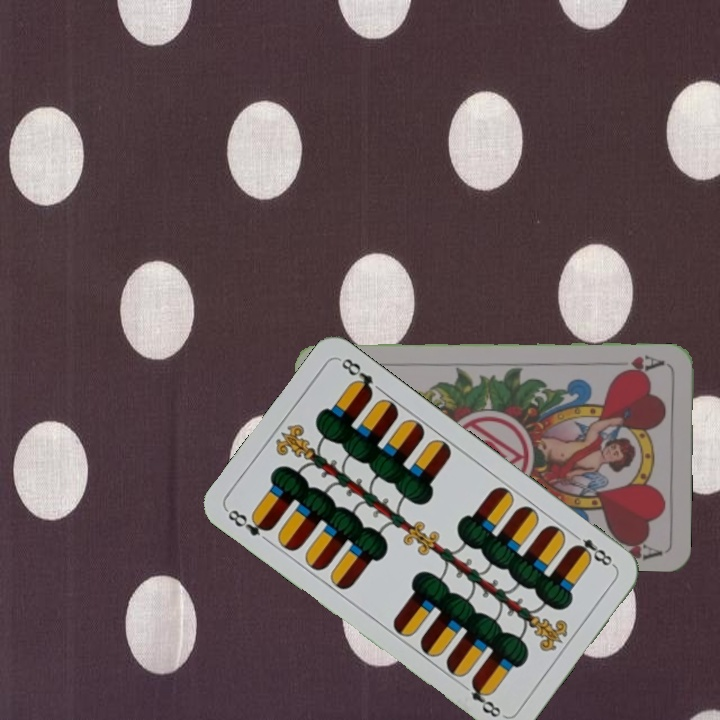E8: (568, 528, 618, 570), (223, 505, 275, 539)
HA: (609, 351, 668, 377)
